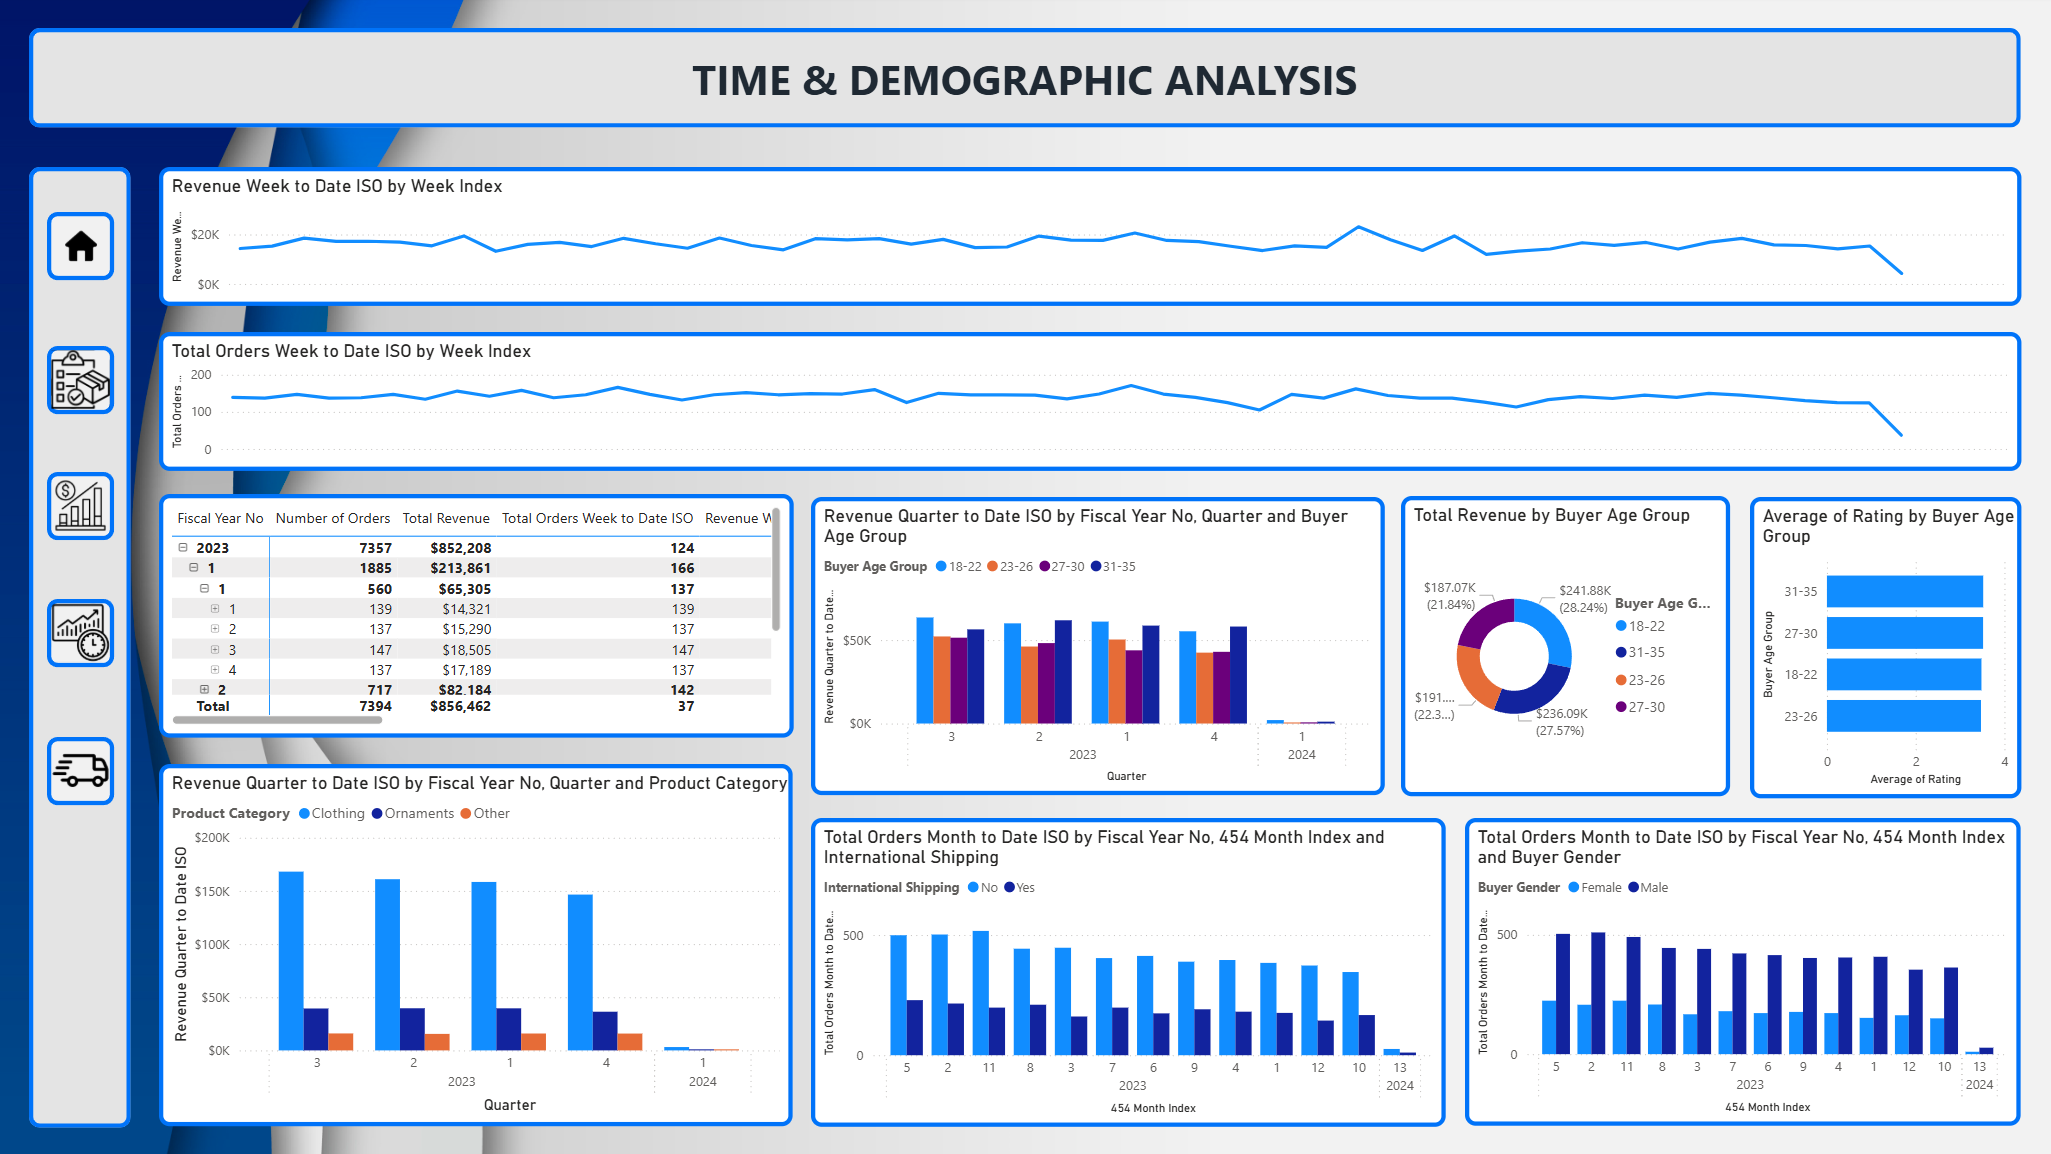

What the dashboard file says about the page in this screenshot:
{"tool":"powerbi","page":{"name":"Time & Demographic Analysis","canvas":[1920,1080],"ordinal":3},"visuals":[{"type":"shape","box":[27.5,26.5,1864,93.3],"z":0},{"type":"shape","box":[27.5,156.1,95.2,899.1],"z":1000},{"type":"actionButton","box":[44.2,198.3,62.8,63.8],"z":2000},{"type":"actionButton","box":[44.2,323.9,62.8,63.8],"z":3000},{"type":"actionButton","box":[44.2,441.7,62.8,63.8],"z":4000},{"type":"actionButton","box":[44.2,560.5,62.8,63.8],"z":5000},{"type":"actionButton","box":[44.2,690.1,62.8,63.8],"z":6000},{"type":"pivotTable","fields":{"Values":["Sales.Number of Orders","Sales.Total Revenue","Sales.Total Orders Week to Date ISO","Sales.Revenue Week to Date ISO","Sales.Total Orders Month to Date ISO","Sales.Revenue Month to Date ISO","Sales.Total Orders Quarter to Date ISO","Sales.Revenue Quarter to Date ISO"],"Rows":["Calendar_454.Fiscal Year No","Calendar_454.Quarter","Calendar_454.454 Month No. in Quarter","Calendar_454.Week No.","Calendar_454.Day of FIscal Year"]},"box":[148.4,462.5,593.6,227.7],"z":7000},{"type":"lineChart","fields":{"Y":["Sales.Revenue Week to Date ISO"],"Category":["Calendar_454.Week Index"]},"box":[148.8,155.9,1742.7,130.4],"z":8000},{"type":"lineChart","fields":{"Category":["Calendar_454.Week Index"],"Y":["Sales.Total Orders Week to Date ISO"]},"box":[148.8,310.8,1742.7,130.4],"z":9000},{"type":"clusteredColumnChart","fields":{"Y":["Sales.Revenue Quarter to Date ISO"],"Category":["Calendar_454.Fiscal Year No","Calendar_454.Quarter"],"Series":["Sales.Product Category"]},"box":[148.8,715.4,593.1,339.4],"z":10000},{"type":"clusteredColumnChart","fields":{"Category":["Calendar_454.Fiscal Year No","Calendar_454.454 Month Index"],"Y":["Sales.Total Orders Month to Date ISO"],"Series":["Sales.International Shipping"]},"box":[759,766,594,289],"z":11000},{"type":"clusteredColumnChart","fields":{"Category":["Calendar_454.Fiscal Year No","Calendar_454.454 Month Index"],"Y":["Sales.Total Orders Month to Date ISO"],"Series":["Sales.Buyer Gender"]},"box":[1371,766,520,288],"z":12000},{"type":"clusteredColumnChart","fields":{"Category":["Calendar_454.Fiscal Year No","Calendar_454.Quarter"],"Y":["Sales.Revenue Quarter to Date ISO"],"Series":["Sales.Buyer Age Group"]},"box":[759,465,537,279],"z":13000},{"type":"donutChart","fields":{"Y":["Sales.Total Revenue"],"Category":["Sales.Buyer Age Group"]},"box":[1311,464,308,281],"z":14000},{"type":"clusteredBarChart","fields":{"Category":["Sales.Buyer Age Group"],"Y":["Avg(Sales.Rating)"]},"box":[1637.4,465.5,254.1,281.5],"z":15000}]}

Visuals, with their boxes in screenshot pixels (x1, y1, x2, y2), scaled from the page's 1920x1080 canvas onto the 2051x1154 screenshot:
shape: detection(29, 28, 2021, 128)
shape: detection(29, 167, 131, 1128)
actionButton: detection(47, 212, 114, 280)
actionButton: detection(47, 346, 114, 414)
actionButton: detection(47, 472, 114, 540)
actionButton: detection(47, 599, 114, 667)
actionButton: detection(47, 737, 114, 806)
pivotTable - Sales.Number of Orders x Sales.Total Revenue: detection(159, 494, 793, 737)
lineChart - Sales.Revenue Week to Date ISO x Calendar_454.Week Index: detection(159, 167, 2021, 306)
lineChart - Calendar_454.Week Index x Sales.Total Orders Week to Date ISO: detection(159, 332, 2021, 471)
clusteredColumnChart - Sales.Revenue Quarter to Date ISO x Calendar_454.Fiscal Year No: detection(159, 764, 793, 1127)
clusteredColumnChart - Calendar_454.Fiscal Year No x Calendar_454.454 Month Index: detection(811, 818, 1445, 1127)
clusteredColumnChart - Calendar_454.Fiscal Year No x Calendar_454.454 Month Index: detection(1465, 818, 2020, 1126)
clusteredColumnChart - Calendar_454.Fiscal Year No x Calendar_454.Quarter: detection(811, 497, 1384, 795)
donutChart - Sales.Total Revenue x Sales.Buyer Age Group: detection(1400, 496, 1729, 796)
clusteredBarChart - Sales.Buyer Age Group x Avg(Sales.Rating): detection(1749, 497, 2021, 798)
